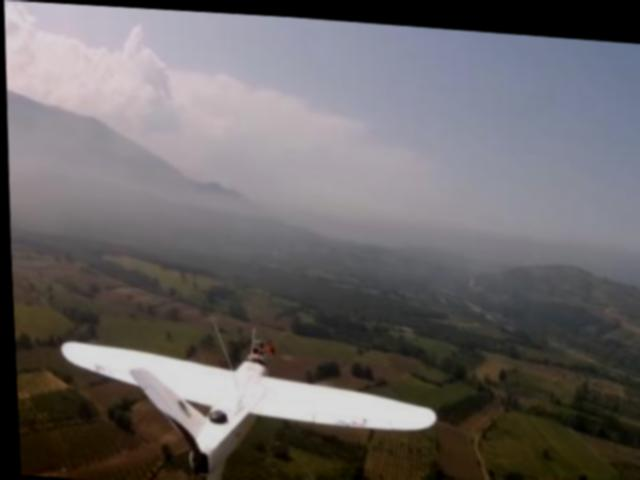uav: (51, 328, 441, 480)
